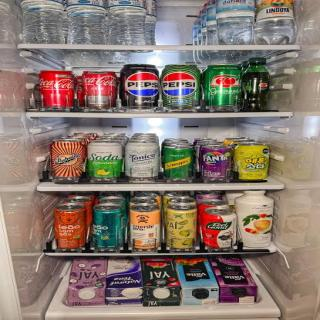Drinks: (66, 0, 108, 48), (20, 0, 63, 44), (110, 2, 150, 48), (212, 1, 252, 45), (256, 1, 294, 46), (201, 1, 223, 49), (190, 16, 210, 48)
Juice: (234, 192, 283, 252), (212, 257, 259, 305), (105, 258, 145, 306), (182, 258, 221, 307), (68, 258, 106, 306), (142, 259, 180, 306)
beverage: (115, 61, 161, 110), (160, 60, 203, 112), (49, 202, 92, 253), (30, 65, 76, 111), (202, 61, 243, 112), (74, 66, 114, 115), (126, 203, 163, 250), (86, 140, 124, 182), (48, 139, 85, 182), (92, 203, 125, 251), (125, 138, 162, 179), (243, 58, 271, 111), (237, 143, 274, 182), (204, 207, 237, 250), (168, 204, 198, 251), (200, 146, 236, 181), (163, 146, 194, 180), (197, 140, 227, 146), (233, 138, 260, 143), (165, 142, 193, 146)
